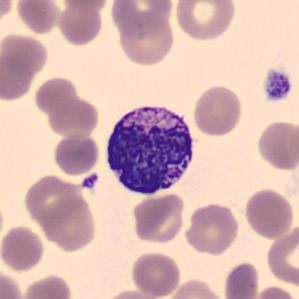Basophil: (98, 97, 200, 199)
Platelets: (260, 67, 294, 104), (81, 173, 100, 191)
RBC: (41, 194, 99, 253), (115, 14, 177, 68), (182, 201, 241, 256), (22, 172, 82, 226), (130, 191, 187, 245), (190, 83, 244, 138), (242, 186, 296, 240), (173, 0, 237, 42), (45, 95, 101, 140), (109, 0, 175, 38), (129, 250, 182, 297), (0, 223, 47, 274), (254, 118, 298, 172), (0, 31, 50, 78), (55, 1, 104, 47), (264, 222, 298, 288), (52, 132, 100, 176), (0, 47, 36, 103), (32, 76, 81, 114), (14, 0, 62, 36), (222, 260, 261, 299), (20, 272, 74, 299), (166, 276, 226, 299), (0, 268, 25, 299), (100, 287, 164, 299), (248, 284, 297, 299), (58, 0, 112, 12), (0, 0, 16, 28), (0, 194, 6, 250)
